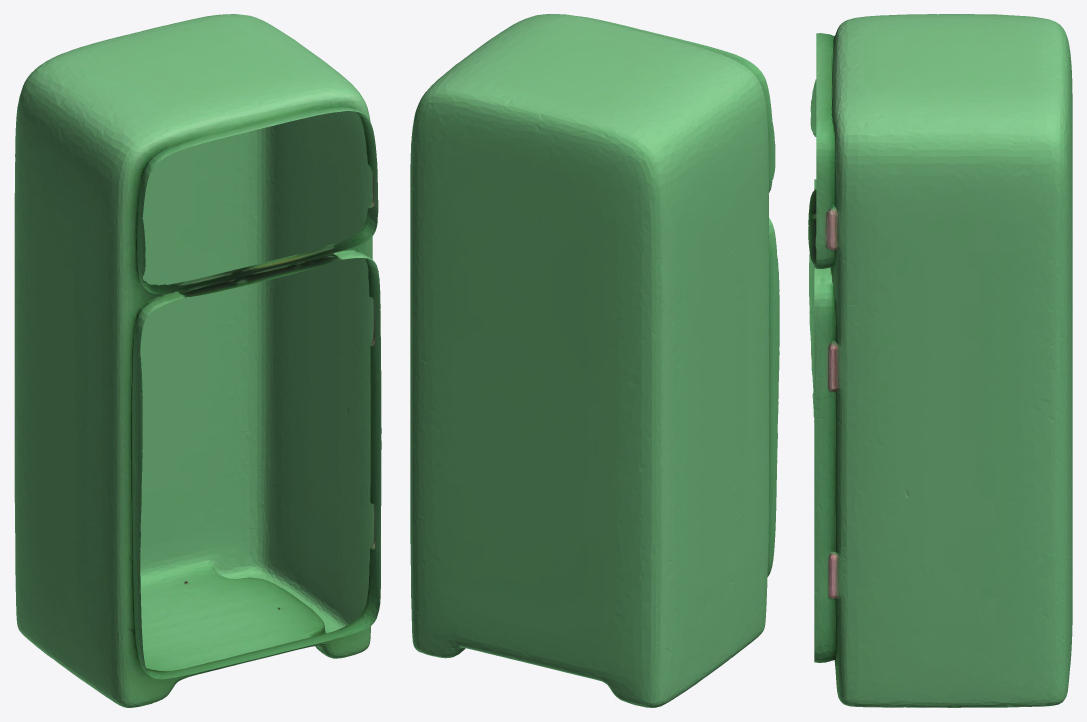
The model's file is body.glb.
The picture shows the model from 3 angles, left to right: view 1: azimuth 30°, elevation 25°; view 2: azimuth 150°, elevation 25°; view 3: azimuth 270°, elevation 25°; orthographic projection.
Parts seen in each view (by area): view 1: source_surface_0; view 2: source_surface_0; view 3: source_surface_0.
Part boxes in pixels (x1,y1,x2,y2): source_surface_0: [14, 14, 381, 707]; source_surface_0: [410, 14, 779, 707]; source_surface_0: [808, 14, 1072, 707].
Bounding box in the file's own units: 1.5 × 3.14 × 1.27.
1 material, 1 textured.
